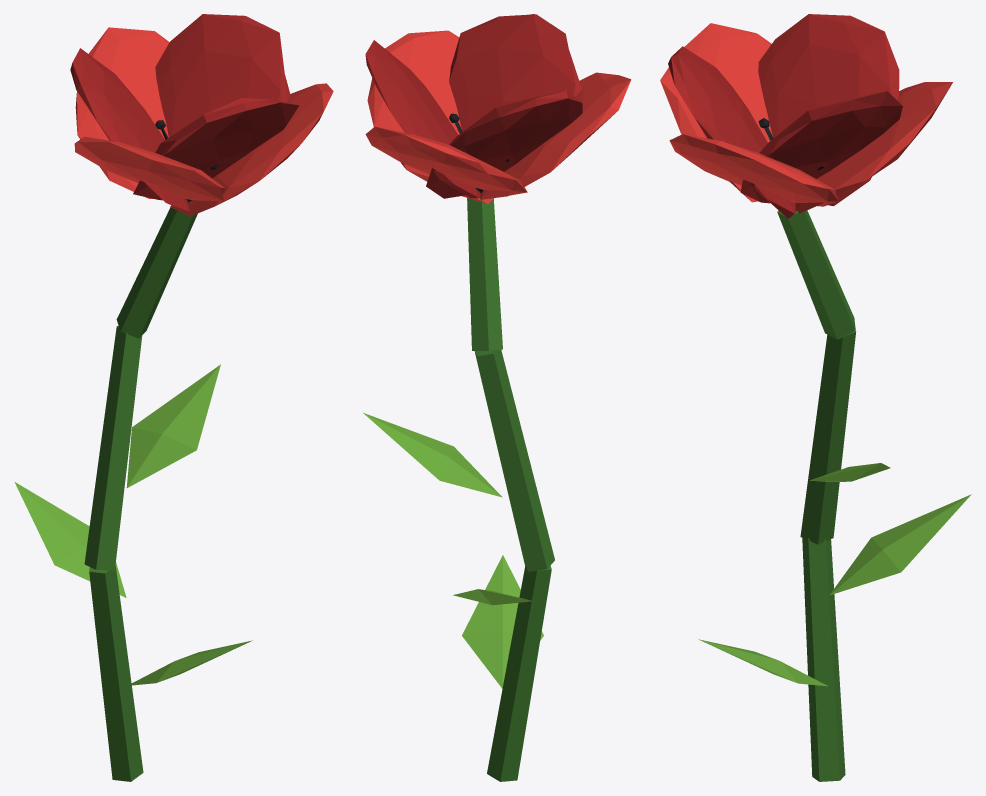
File: amapola_gigante.glb
3 renders of one model, left to right at view 1: azimuth 30°, elevation 25°; view 2: azimuth 150°, elevation 25°; view 3: azimuth 270°, elevation 25°, orthographic. The views are drawn at different scales.
Parts seen in each view (by area): view 1: amapola_gigante_petalo_rojo_osc, amapola_gigante_hoja_osc, amapola_gigante_petalo_rojo, amapola_gigante_hoja; view 2: amapola_gigante_petalo_rojo_osc, amapola_gigante_hoja_osc, amapola_gigante_petalo_rojo, amapola_gigante_hoja; view 3: amapola_gigante_petalo_rojo_osc, amapola_gigante_hoja_osc, amapola_gigante_petalo_rojo, amapola_gigante_hoja.
Part boxes in pixels (x1,y1,x2,y2): amapola_gigante_petalo_rojo_osc: (70,14,299,211); amapola_gigante_hoja_osc: (84,207,197,781); amapola_gigante_petalo_rojo: (74,27,333,216); amapola_gigante_hoja: (14,364,252,685); amapola_gigante_petalo_rojo_osc: (365,14,582,198); amapola_gigante_hoja_osc: (467,198,554,781); amapola_gigante_petalo_rojo: (365,30,631,204); amapola_gigante_hoja: (363,413,543,688); amapola_gigante_petalo_rojo_osc: (668,14,902,218); amapola_gigante_hoja_osc: (777,210,856,781); amapola_gigante_petalo_rojo: (660,23,952,213); amapola_gigante_hoja: (698,463,971,686).
Bounding box in the file's own units: 1.18 × 3.29 × 1.24.
